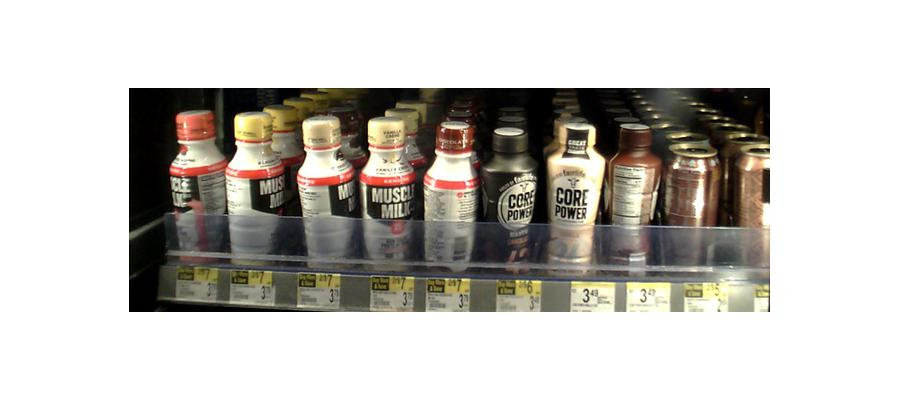bottle: (228, 112, 292, 264), (296, 119, 360, 266), (544, 123, 603, 268), (421, 118, 476, 271), (169, 108, 224, 260), (606, 122, 661, 274), (360, 119, 417, 264), (480, 126, 537, 269), (664, 139, 720, 265), (729, 134, 774, 266)
